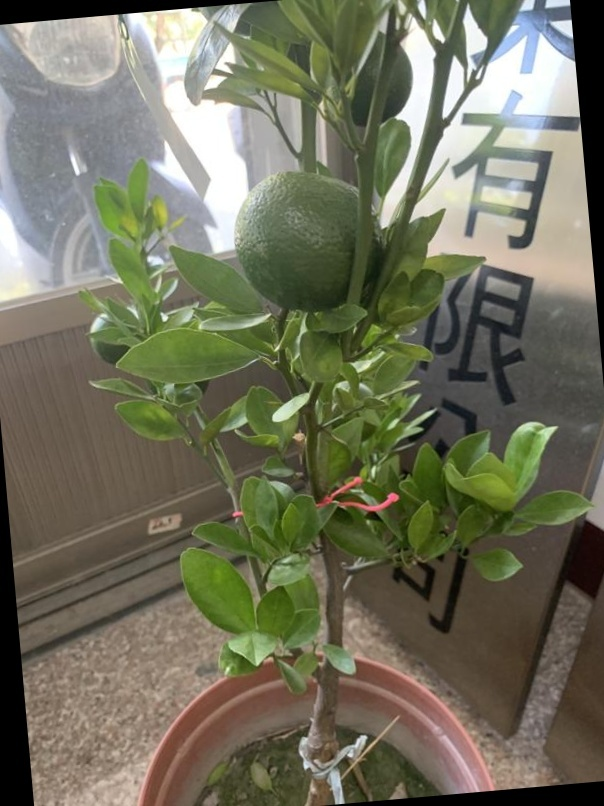Tangerine: (231, 166, 386, 310)
